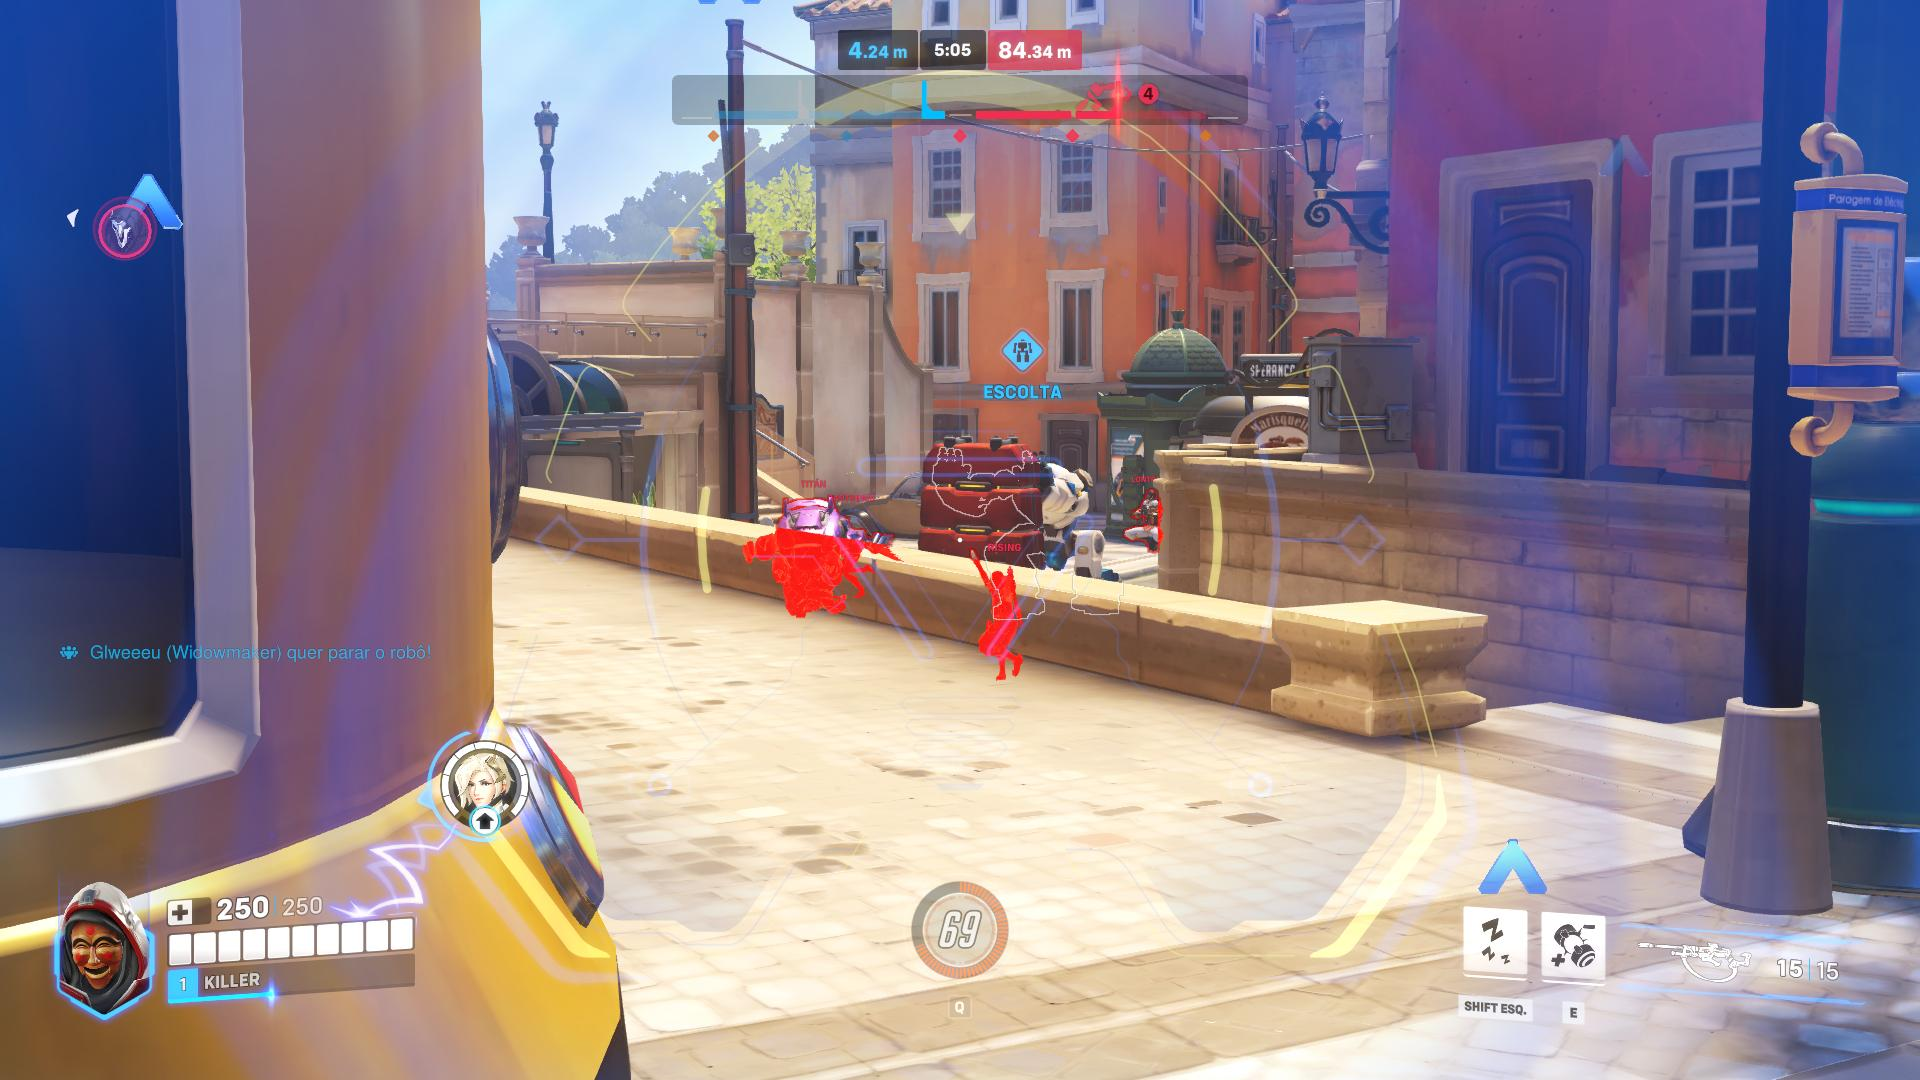enemy: (775, 497, 894, 546), (1124, 489, 1159, 553)
